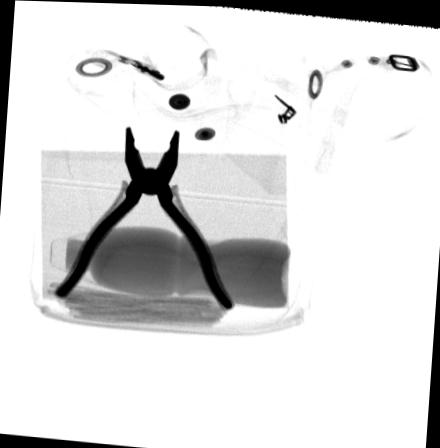Pliers: (51, 124, 235, 312)
